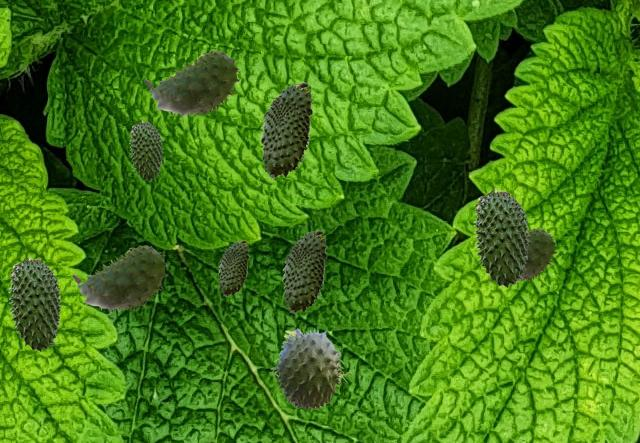guyabano: (270, 327, 350, 409), (72, 245, 167, 313), (144, 50, 239, 118), (473, 188, 529, 287), (8, 256, 61, 351), (260, 82, 312, 177), (282, 230, 326, 312), (489, 228, 556, 281), (129, 120, 162, 180), (218, 240, 248, 295)
